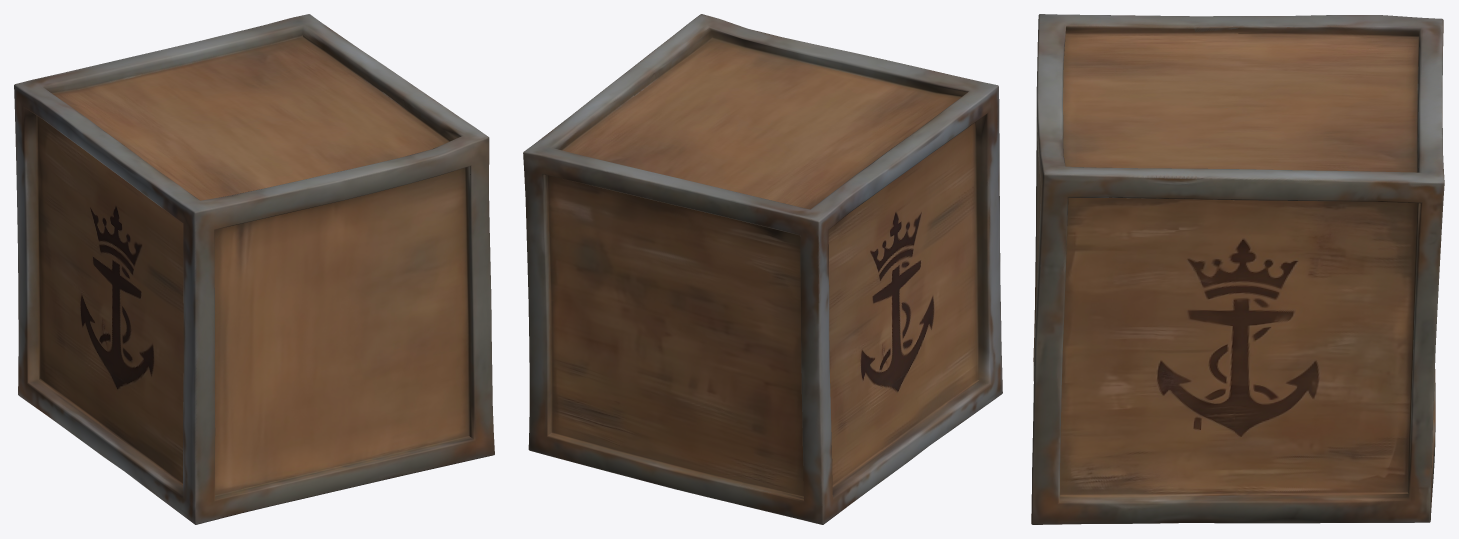
Rendered from SM_Env_SohoTeaChest.fbx.
3 renders of one model, left to right at view 1: azimuth 30°, elevation 25°; view 2: azimuth 150°, elevation 25°; view 3: azimuth 270°, elevation 25°, orthographic. The views are drawn at different scales.
Parts seen in each view (by area): view 1: SM_Env_SohoTeaChest; view 2: SM_Env_SohoTeaChest; view 3: SM_Env_SohoTeaChest.
Boxes of the visible parts, x1,y1,x2,y2 form: SM_Env_SohoTeaChest: (14,14,494,524); SM_Env_SohoTeaChest: (523,14,1002,524); SM_Env_SohoTeaChest: (1031,14,1444,524).
Bounding box in the file's own units: 17.95 × 19.17 × 18.
Materials: 1 (1 with a texture image).
